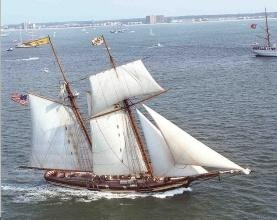fanchuan: (10, 33, 253, 189)
